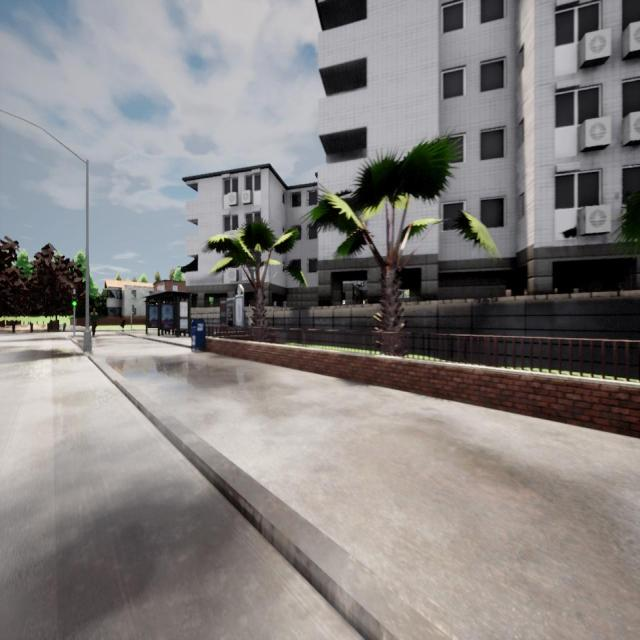Pedestrian: (90, 307, 98, 336)
traffic_light: (72, 294, 76, 306), (132, 305, 134, 312)
